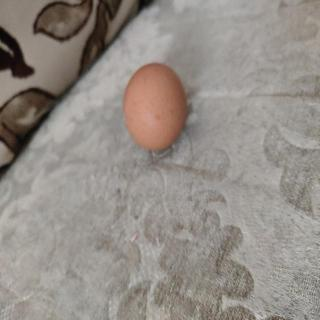Telur: (123, 63, 191, 154)
